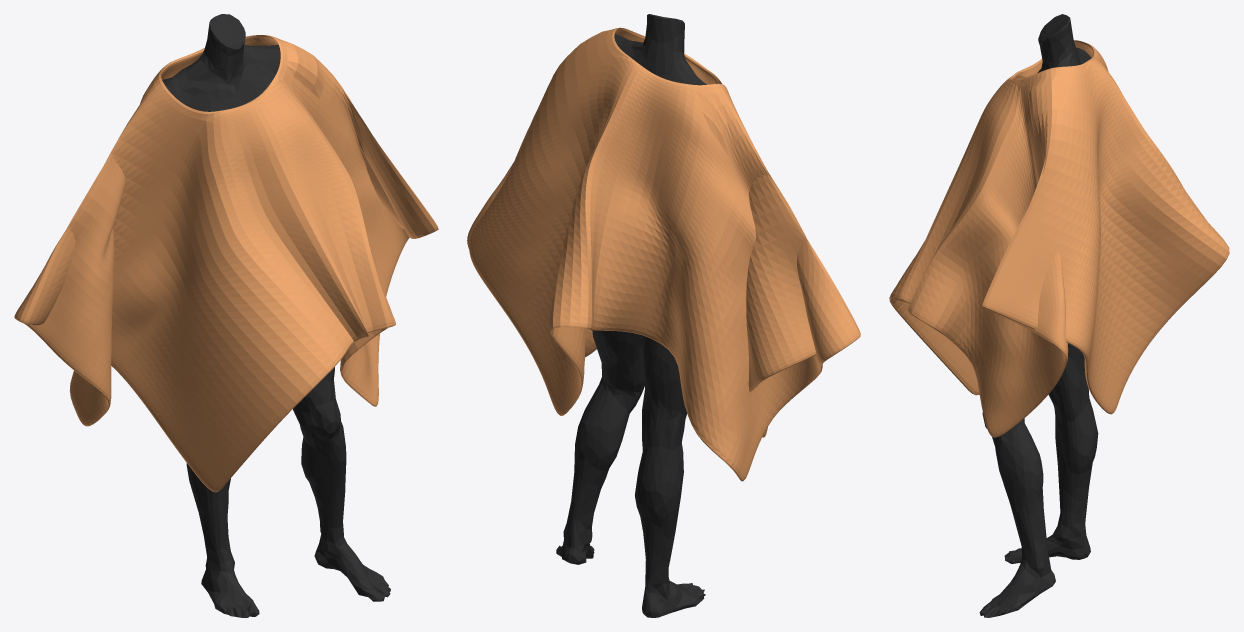
The model's file is snuggy.obj.
3 views of the same model, side by side, from view 1: azimuth 30°, elevation 25°; view 2: azimuth 150°, elevation 25°; view 3: azimuth 270°, elevation 25° (orthographic). The views are drawn at different scales.
Parts seen in each view (by area): view 1: Plane002, F_BForm_001_CockedHip; view 2: Plane002, F_BForm_001_CockedHip; view 3: Plane002, F_BForm_001_CockedHip.
Boxes of the visible parts, bbox=[...] form: Plane002: bbox=[14, 35, 438, 492]; F_BForm_001_CockedHip: bbox=[162, 14, 390, 617]; Plane002: bbox=[467, 27, 860, 481]; F_BForm_001_CockedHip: bbox=[556, 14, 706, 617]; Plane002: bbox=[889, 40, 1229, 437]; F_BForm_001_CockedHip: bbox=[979, 14, 1098, 617].
Size of the model in its own units: 42.45 by 60.98 by 34.56.
